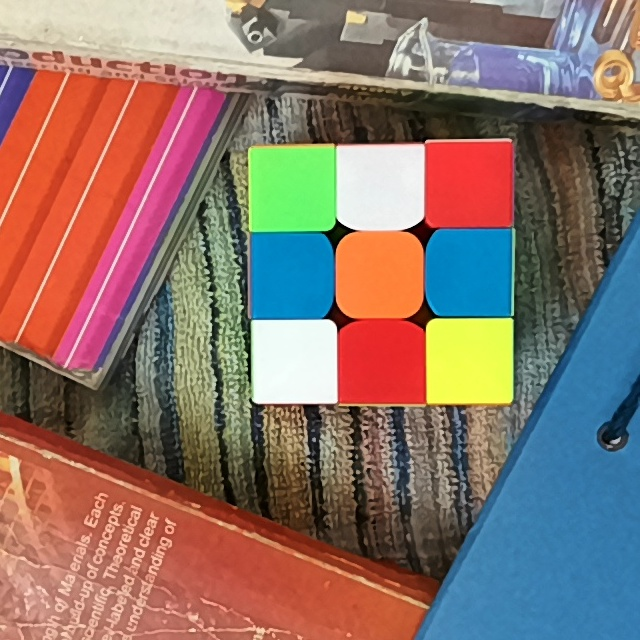tile: (431, 145, 508, 220), (431, 325, 508, 400), (252, 152, 329, 226), (257, 325, 333, 398), (437, 236, 510, 311), (255, 237, 327, 313), (345, 330, 422, 401), (344, 150, 420, 220), (344, 241, 415, 309)
